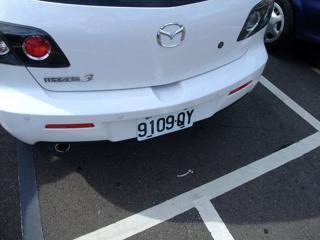plate: (135, 113, 194, 139)
